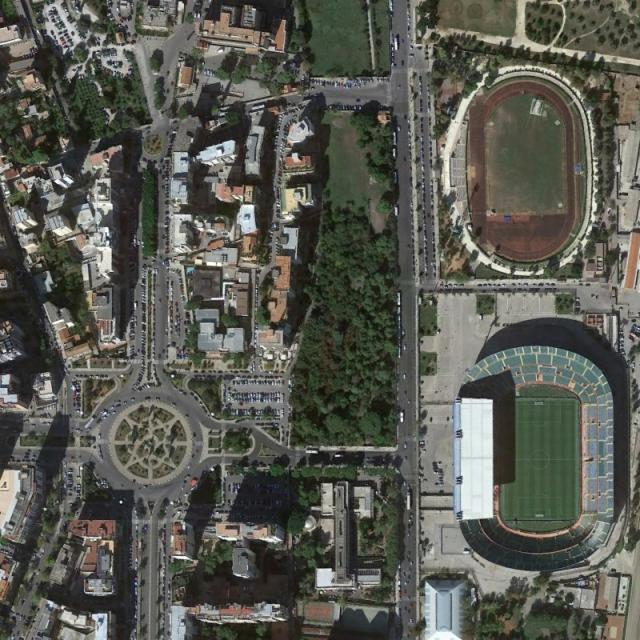vehicle: (84, 415, 96, 428), (406, 492, 413, 511), (399, 412, 406, 424), (394, 38, 399, 51), (306, 450, 318, 454), (334, 454, 344, 458), (186, 462, 191, 469), (134, 302, 138, 310), (403, 442, 407, 449), (403, 390, 406, 398), (410, 513, 414, 519), (406, 484, 410, 490), (402, 572, 406, 578), (403, 606, 406, 614), (407, 398, 410, 405), (407, 531, 410, 538), (397, 125, 400, 131), (402, 329, 405, 335), (403, 344, 406, 350), (403, 480, 406, 486), (403, 589, 406, 595), (407, 596, 410, 602), (138, 240, 141, 246), (403, 374, 406, 379), (405, 456, 408, 461), (410, 560, 413, 565), (408, 568, 411, 573), (404, 581, 407, 586), (410, 618, 413, 623), (409, 630, 412, 635), (410, 603, 412, 608)
